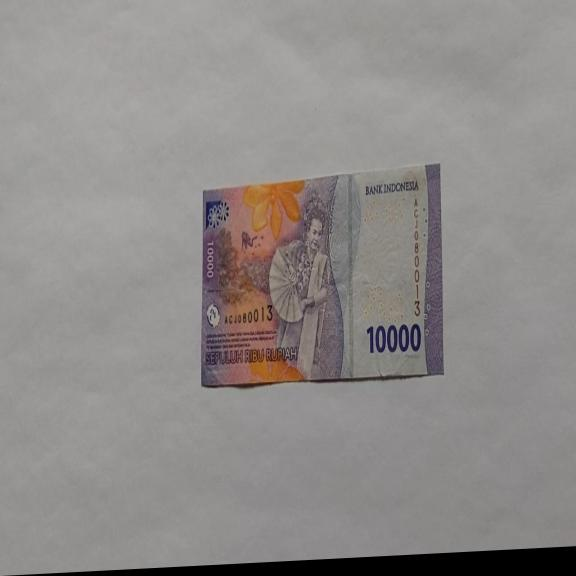Kertas: (200, 163, 442, 390), (365, 320, 422, 356)
